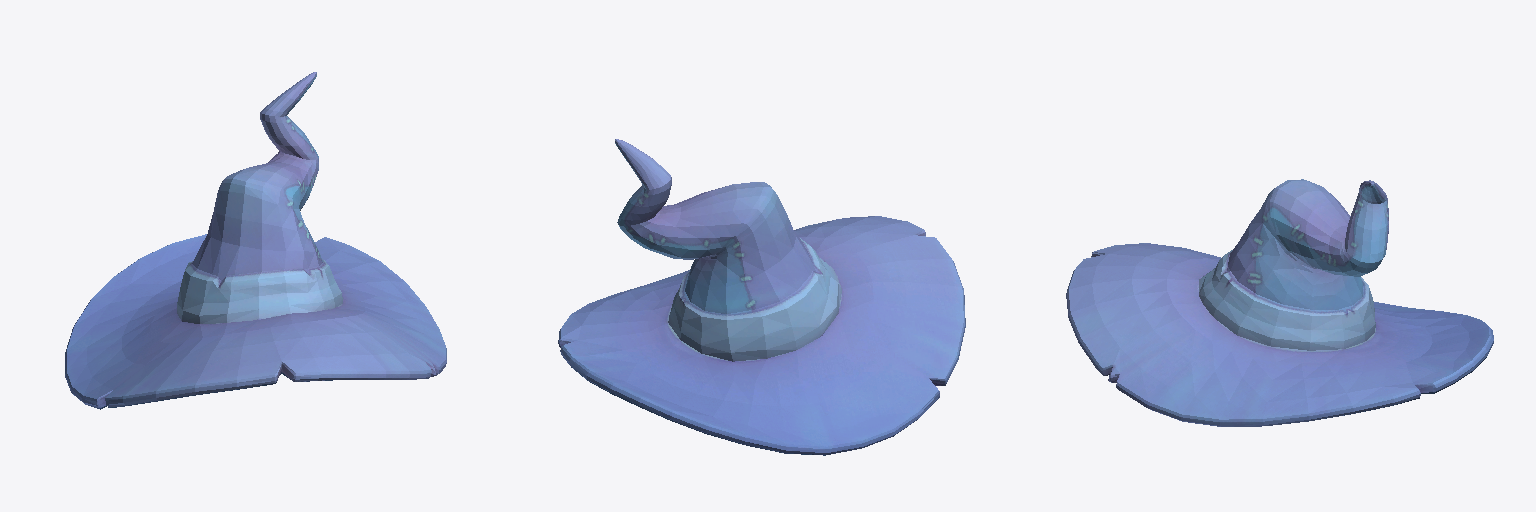
3 views of the same model, side by side, from view 1: azimuth 30°, elevation 25°; view 2: azimuth 150°, elevation 25°; view 3: azimuth 270°, elevation 25° (orthographic).
Visible parts, largest first — view 1: SM_HT134_CP7777.mo_SM_HT134_CP7777.md; view 2: SM_HT134_CP7777.mo_SM_HT134_CP7777.md; view 3: SM_HT134_CP7777.mo_SM_HT134_CP7777.md.
Boxes of the visible parts, x1,y1,x2,y2 form: SM_HT134_CP7777.mo_SM_HT134_CP7777.md: [65, 72, 446, 409]; SM_HT134_CP7777.mo_SM_HT134_CP7777.md: [558, 139, 965, 455]; SM_HT134_CP7777.mo_SM_HT134_CP7777.md: [1066, 179, 1493, 426].
Bounding box in the file's own units: 0.5944 × 0.4282 × 0.6647.
Materials: 1 (1 with a texture image).